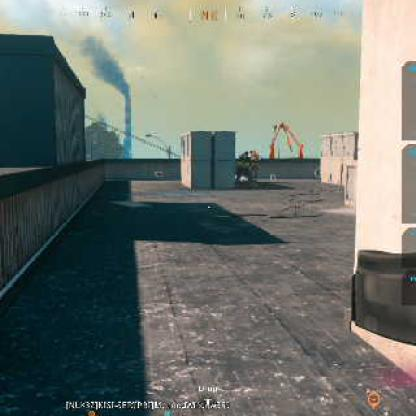enemy: (234, 148, 259, 186)
